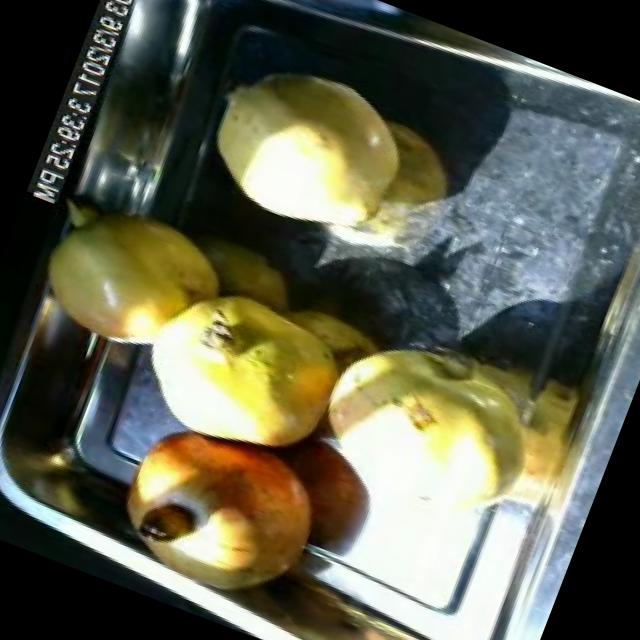fruit: (290, 306, 566, 550), (95, 398, 349, 628), (186, 36, 440, 260), (125, 256, 372, 478), (19, 178, 250, 382)
